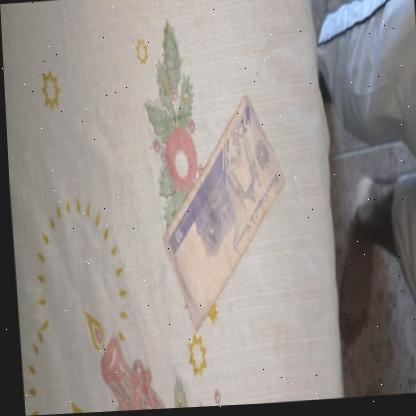ten-back-vef: (150, 92, 290, 335)
